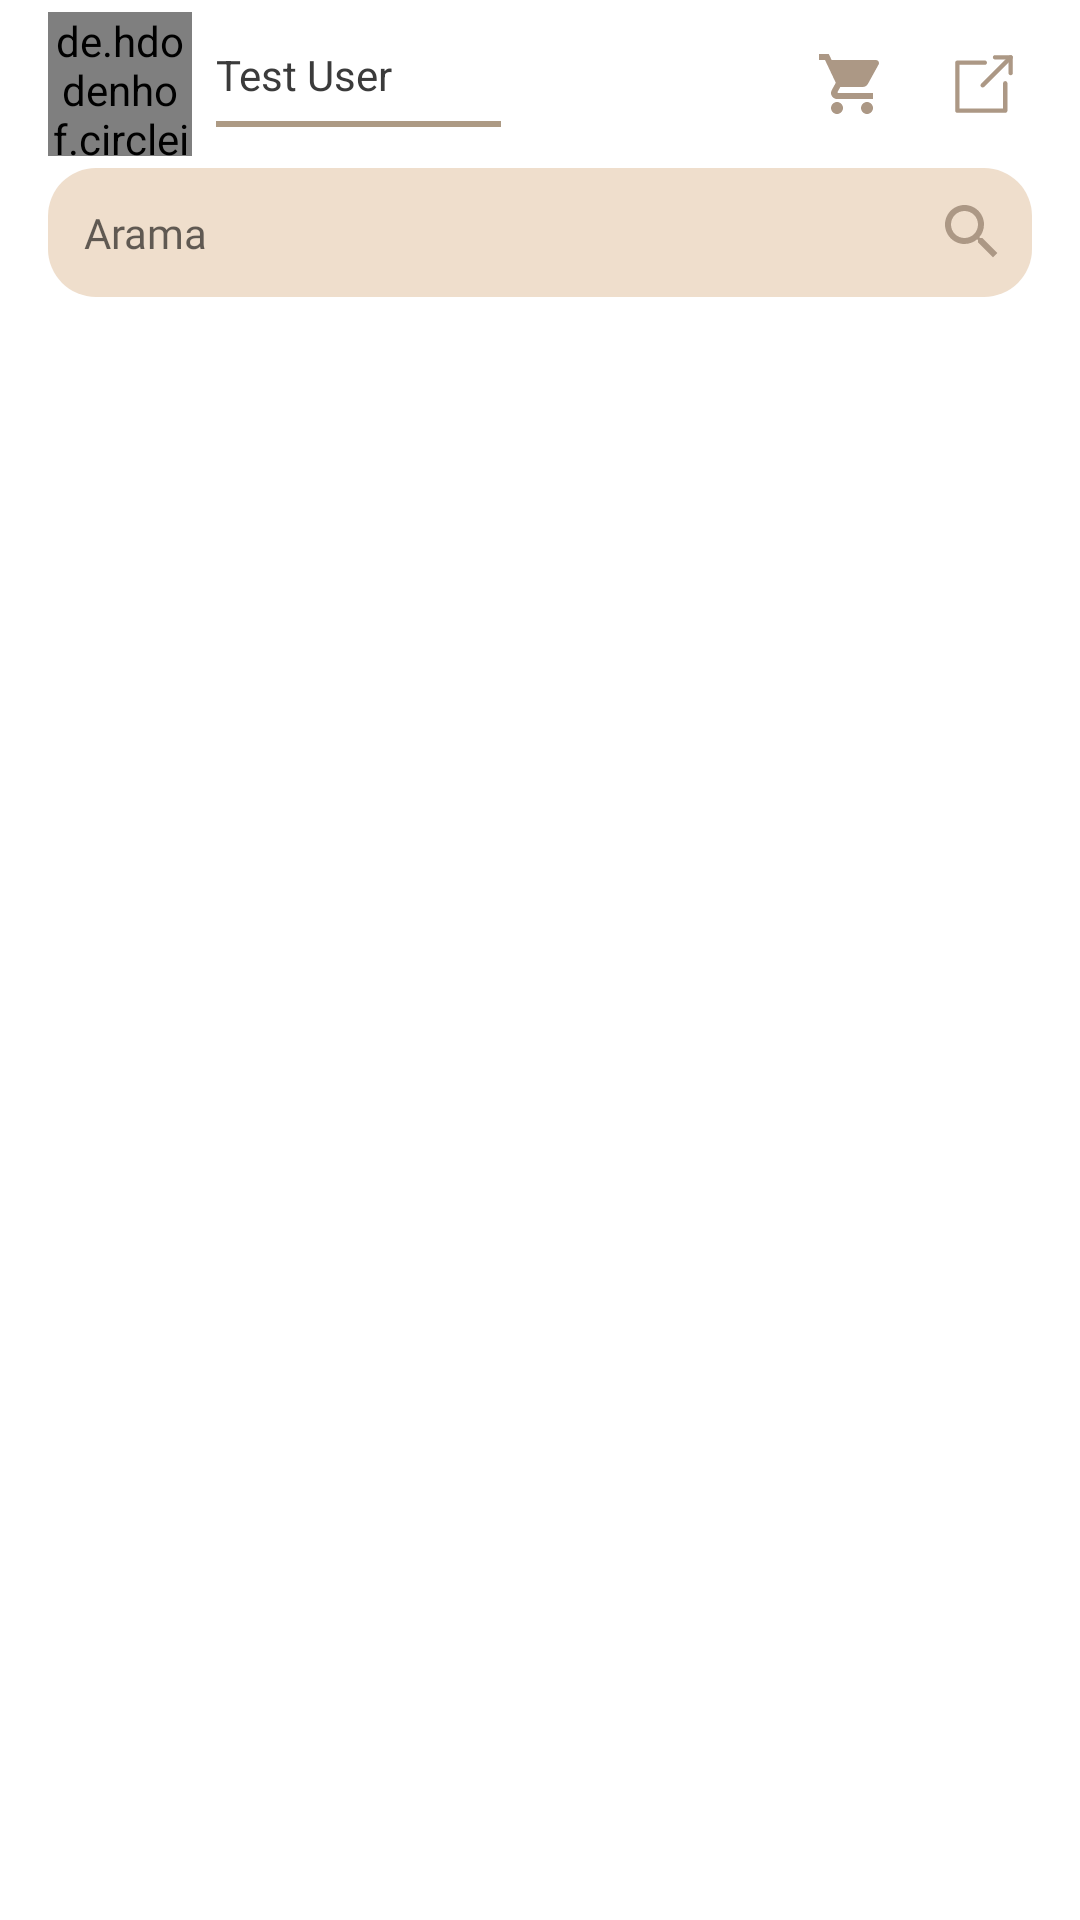

Point at icon controls on the screen. Image size 1080px×1920px, points as (x,y).
search: (971,231)
Sepet: (849,84)
